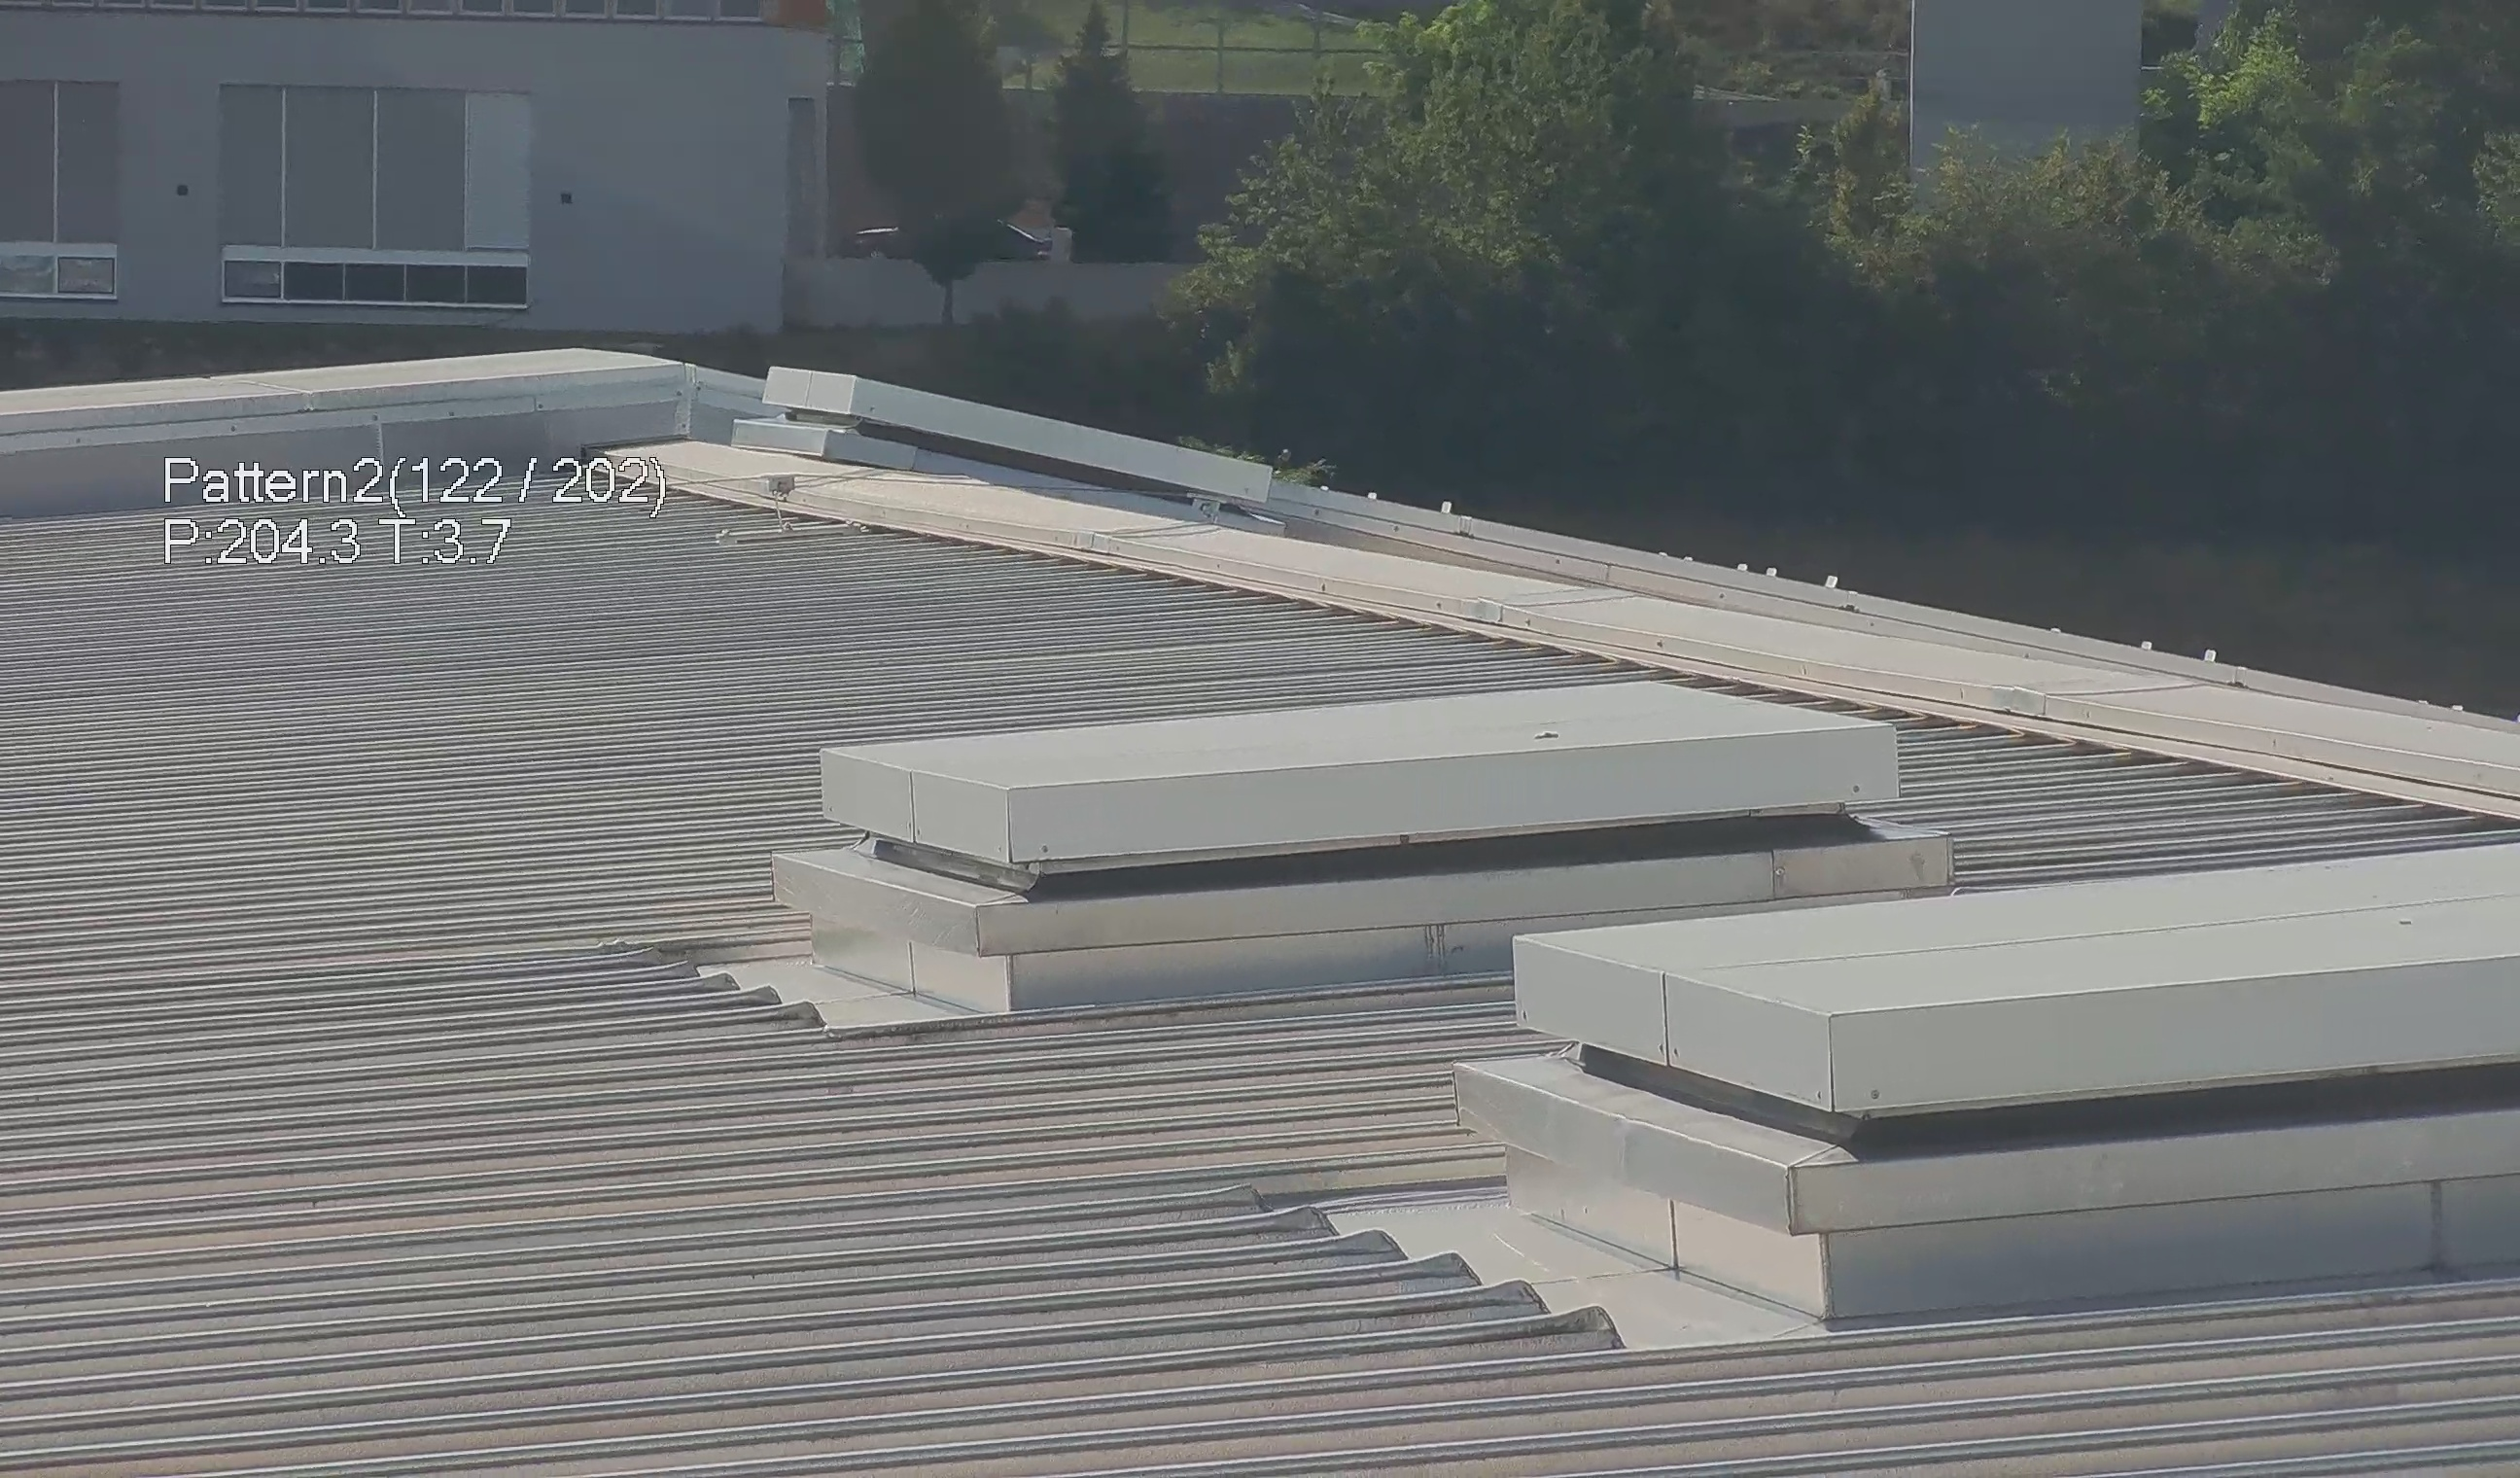Other: (862, 178, 1062, 304)
